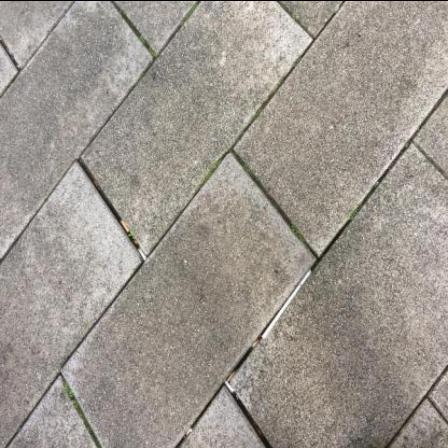Cigarette: (225, 380, 236, 394), (122, 219, 132, 233), (139, 249, 149, 262), (186, 428, 194, 439), (229, 371, 237, 381), (253, 339, 260, 349)
Straw: (263, 269, 313, 339)
